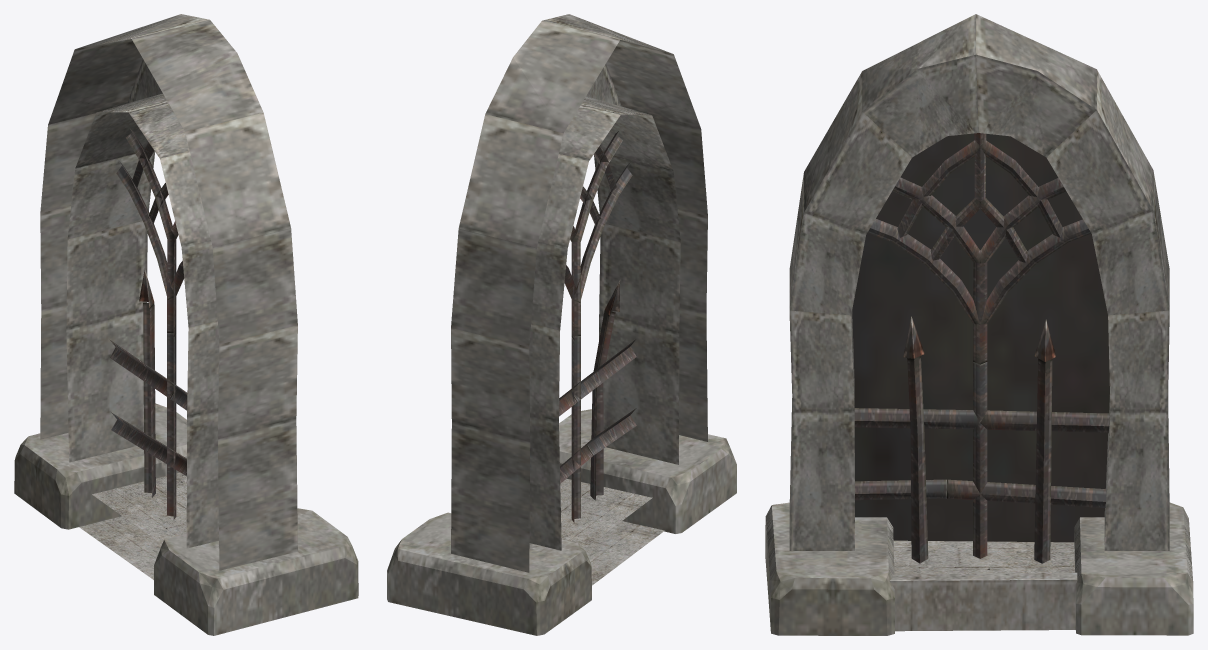
Rendered from bg_lut_lucastle_arenawindow01a_sm_ksh.FBX.
3 views of the same model, side by side, from view 1: azimuth 30°, elevation 25°; view 2: azimuth 150°, elevation 25°; view 3: azimuth 270°, elevation 25° (orthographic). The views are drawn at different scales.
Parts seen in each view (by area): view 1: bg_lut_lucastle_arenawindow01a_sm_ksh; view 2: bg_lut_lucastle_arenawindow01a_sm_ksh; view 3: bg_lut_lucastle_arenawindow01a_sm_ksh.
Part boxes in pixels (bbox=[...]): bg_lut_lucastle_arenawindow01a_sm_ksh: bbox=[14, 14, 358, 635]; bg_lut_lucastle_arenawindow01a_sm_ksh: bbox=[387, 14, 736, 635]; bg_lut_lucastle_arenawindow01a_sm_ksh: bbox=[765, 14, 1193, 635].
Size of the model in its own units: 43.78 by 140 by 98.26.
